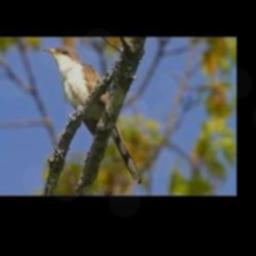Cuckoo: (42, 46, 141, 184)
